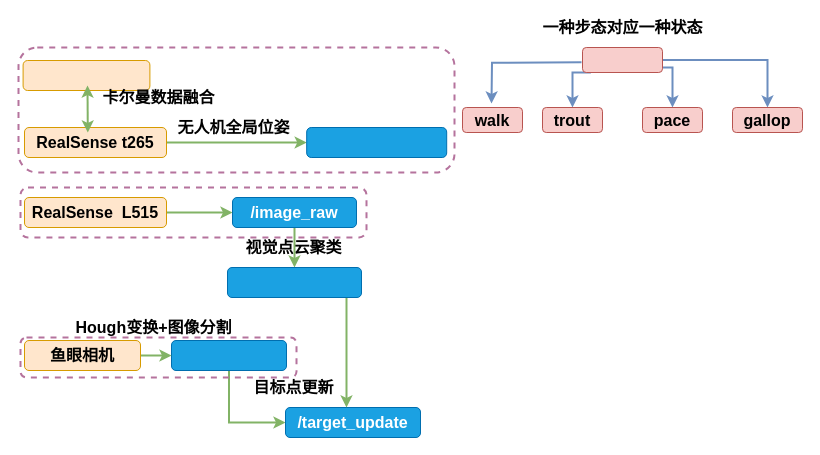
Image size: 820x455. Some labels were removed from this diagram. The shapes that lost their labels are listed below. From the top down, each one's centre as x and y in pixels, then its label:
(86,75): PX4Mini IMU
(622,59): stand
(376,142): /local_position
(294,282): /block_position
(228,355): /detect_img
